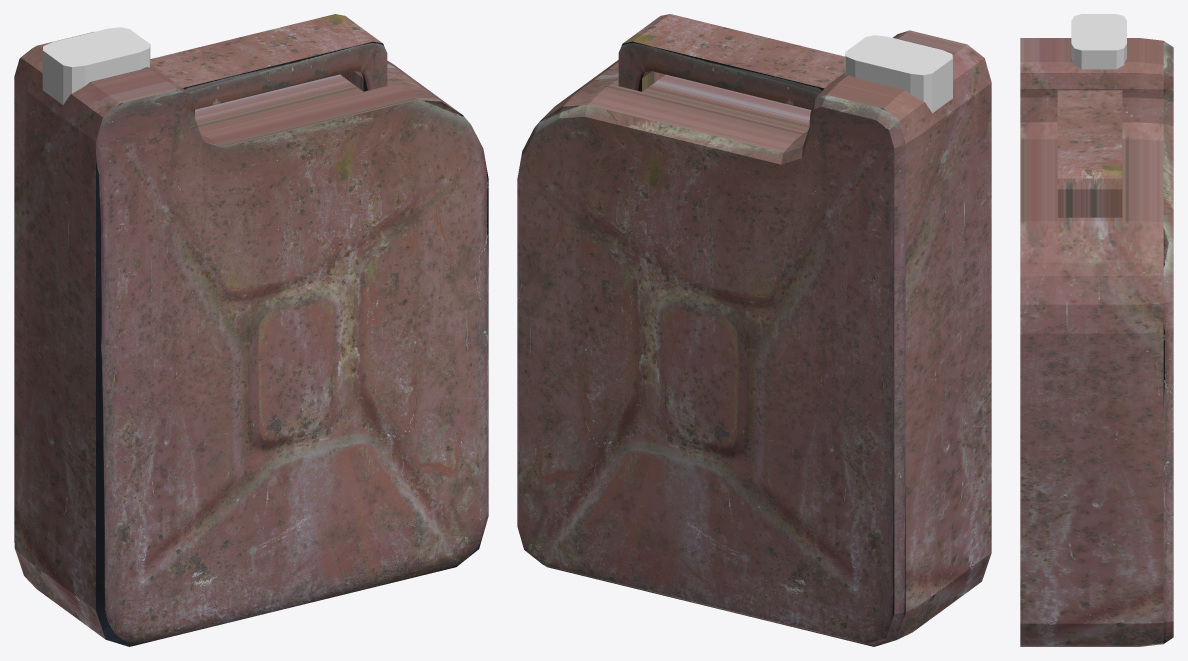
The model's file is Jerry Can.fbx.
The picture shows the model from 3 angles, left to right: view 1: azimuth 30°, elevation 25°; view 2: azimuth 150°, elevation 25°; view 3: azimuth 270°, elevation 25°; orthographic projection. The views are drawn at different scales.
Parts seen in each view (by area): view 1: Cube.012; view 2: Cube.012; view 3: Cube.012.
Boxes of the visible parts, x1=… form: Cube.012: x1=14, y1=14, x2=488, y2=646; Cube.012: x1=517, y1=14, x2=991, y2=646; Cube.012: x1=1020, y1=14, x2=1173, y2=646.
Bounding box in the file's own units: 198 × 272 × 78.18.
